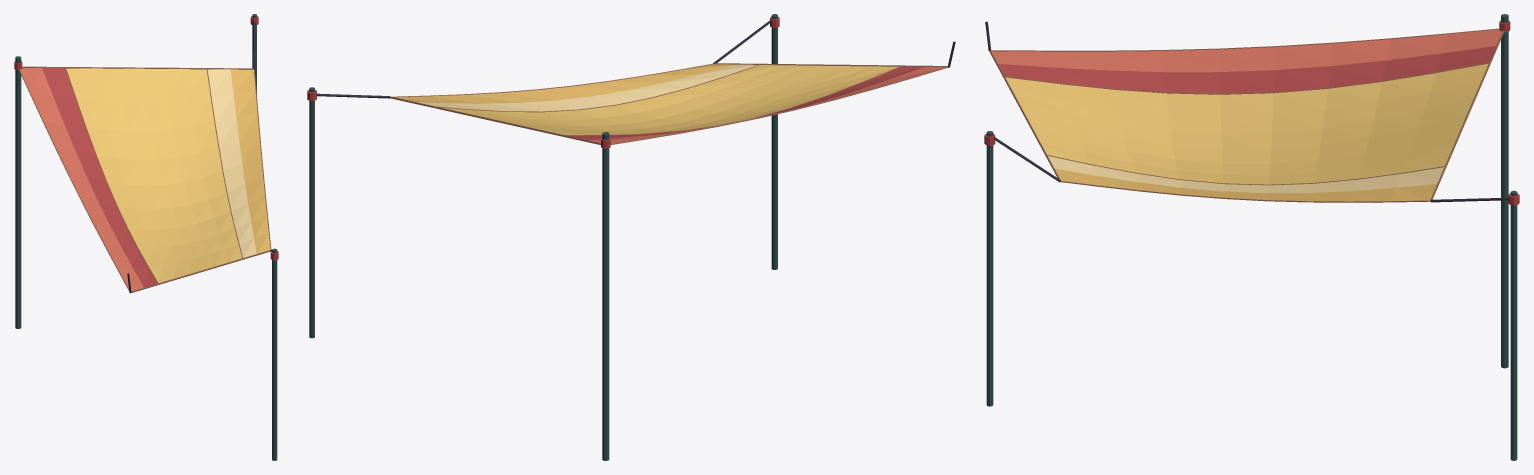
File: SplicedTransitFly.gltf
The picture shows the model from 3 angles, left to right: view 1: azimuth 30°, elevation 25°; view 2: azimuth 150°, elevation 25°; view 3: azimuth 270°, elevation 25°; orthographic projection. The views are drawn at different scales.
Visible parts, largest first — view 1: SplicedTransitFly; view 2: SplicedTransitFly; view 3: SplicedTransitFly.
Boxes of the visible parts, x1,y1,x2,y2 form: SplicedTransitFly: [14, 14, 278, 460]; SplicedTransitFly: [307, 14, 955, 460]; SplicedTransitFly: [984, 14, 1519, 460].
Size of the model in its own units: 5.97 by 4.64 by 6.38.
